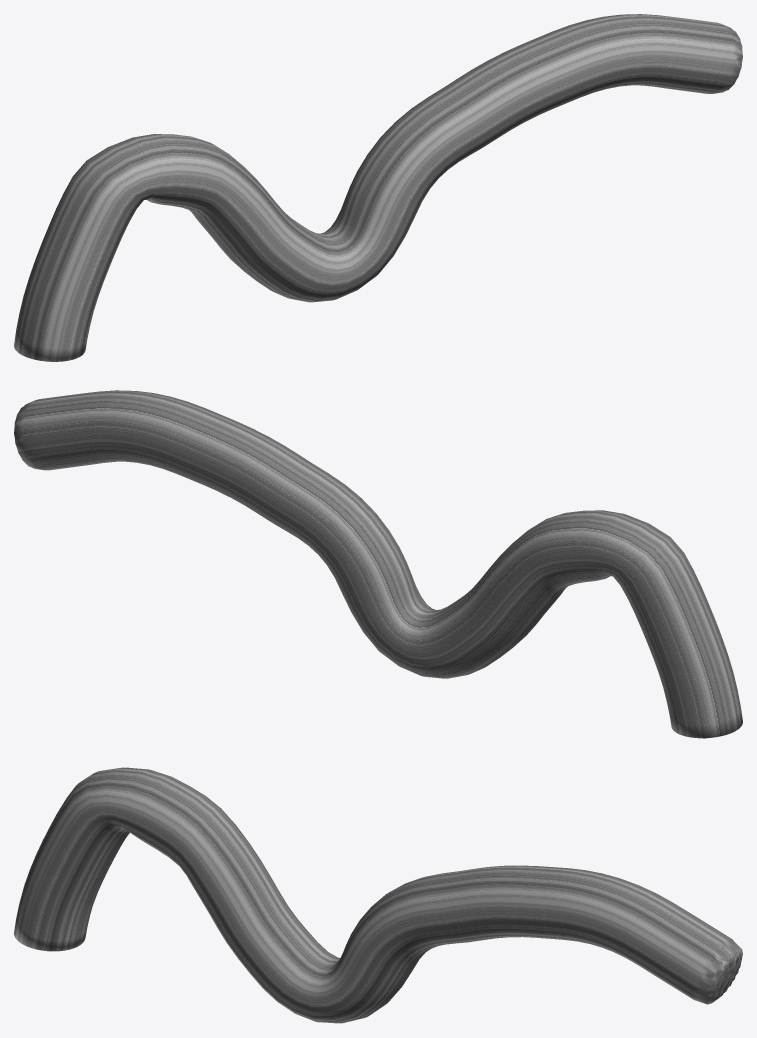
The model's file is long-stick.fbx.
3 views of the same model, one above another, from view 1: azimuth 30°, elevation 25°; view 2: azimuth 150°, elevation 25°; view 3: azimuth 330°, elevation 25° (orthographic).
Parts seen in each view (by area): view 1: long_stick; view 2: long_stick; view 3: long_stick.
Boxes of the visible parts, x1,y1,x2,y2 form: long_stick: [14, 14, 742, 361]; long_stick: [14, 390, 742, 738]; long_stick: [14, 767, 742, 1023].
Size of the model in its own units: 22.7 by 6.34 by 1.98.
1 material, 1 textured.
